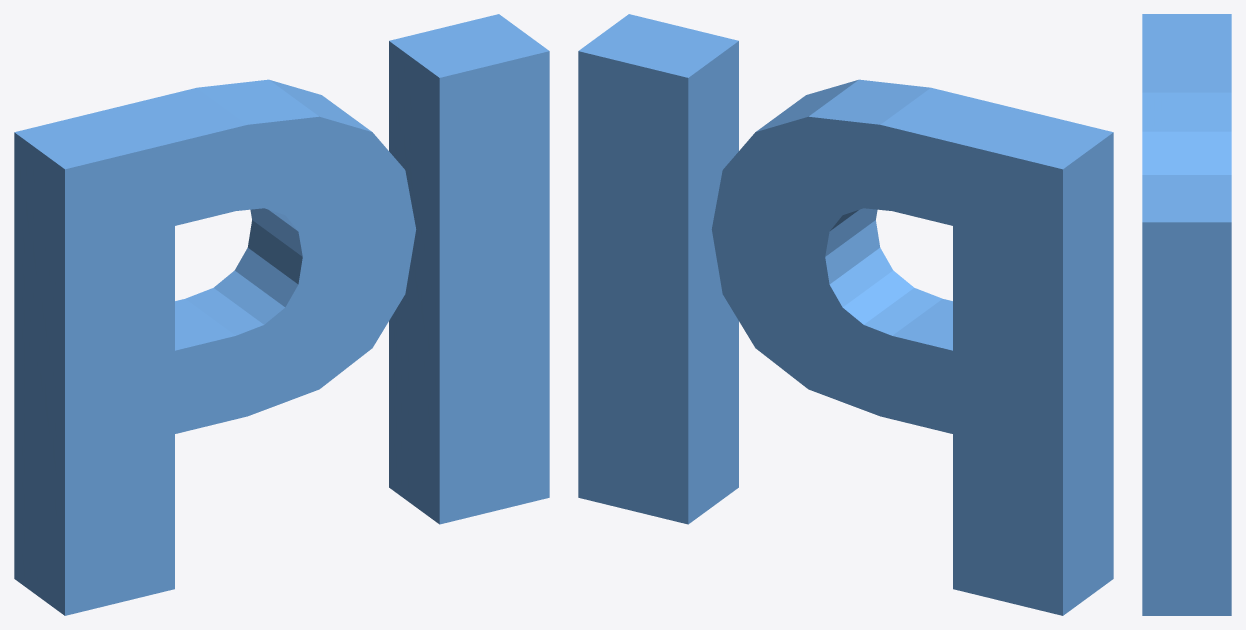
The model's file is suku_besar_pi.glb.
3 renders of one model, left to right at view 1: azimuth 30°, elevation 25°; view 2: azimuth 150°, elevation 25°; view 3: azimuth 270°, elevation 25°, orthographic. The views are drawn at different scales.
Parts seen in each view (by area): view 1: geometry_0; view 2: geometry_0; view 3: geometry_0.
Part boxes in pixels (<box>): geometry_0: <box>14,14,549,615</box>; geometry_0: <box>578,14,1113,615</box>; geometry_0: <box>1142,14,1231,615</box>.
Bounding box in the file's own units: 8.28 × 7.29 × 1.5.
